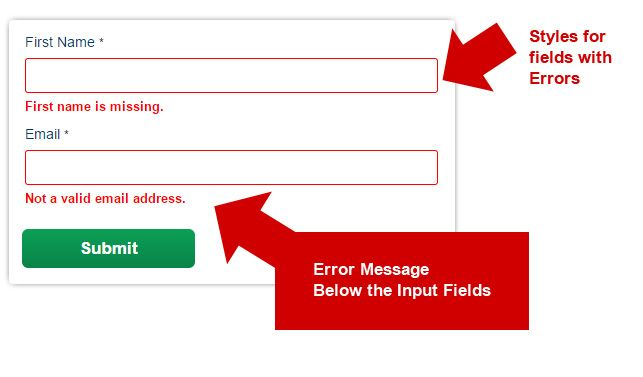error_field: (24, 57, 439, 93), (24, 150, 438, 186)
error_message: (310, 260, 495, 298), (528, 27, 613, 87), (24, 191, 189, 206), (26, 99, 164, 115)
